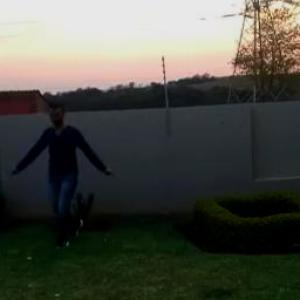land: (15, 116, 107, 244)
